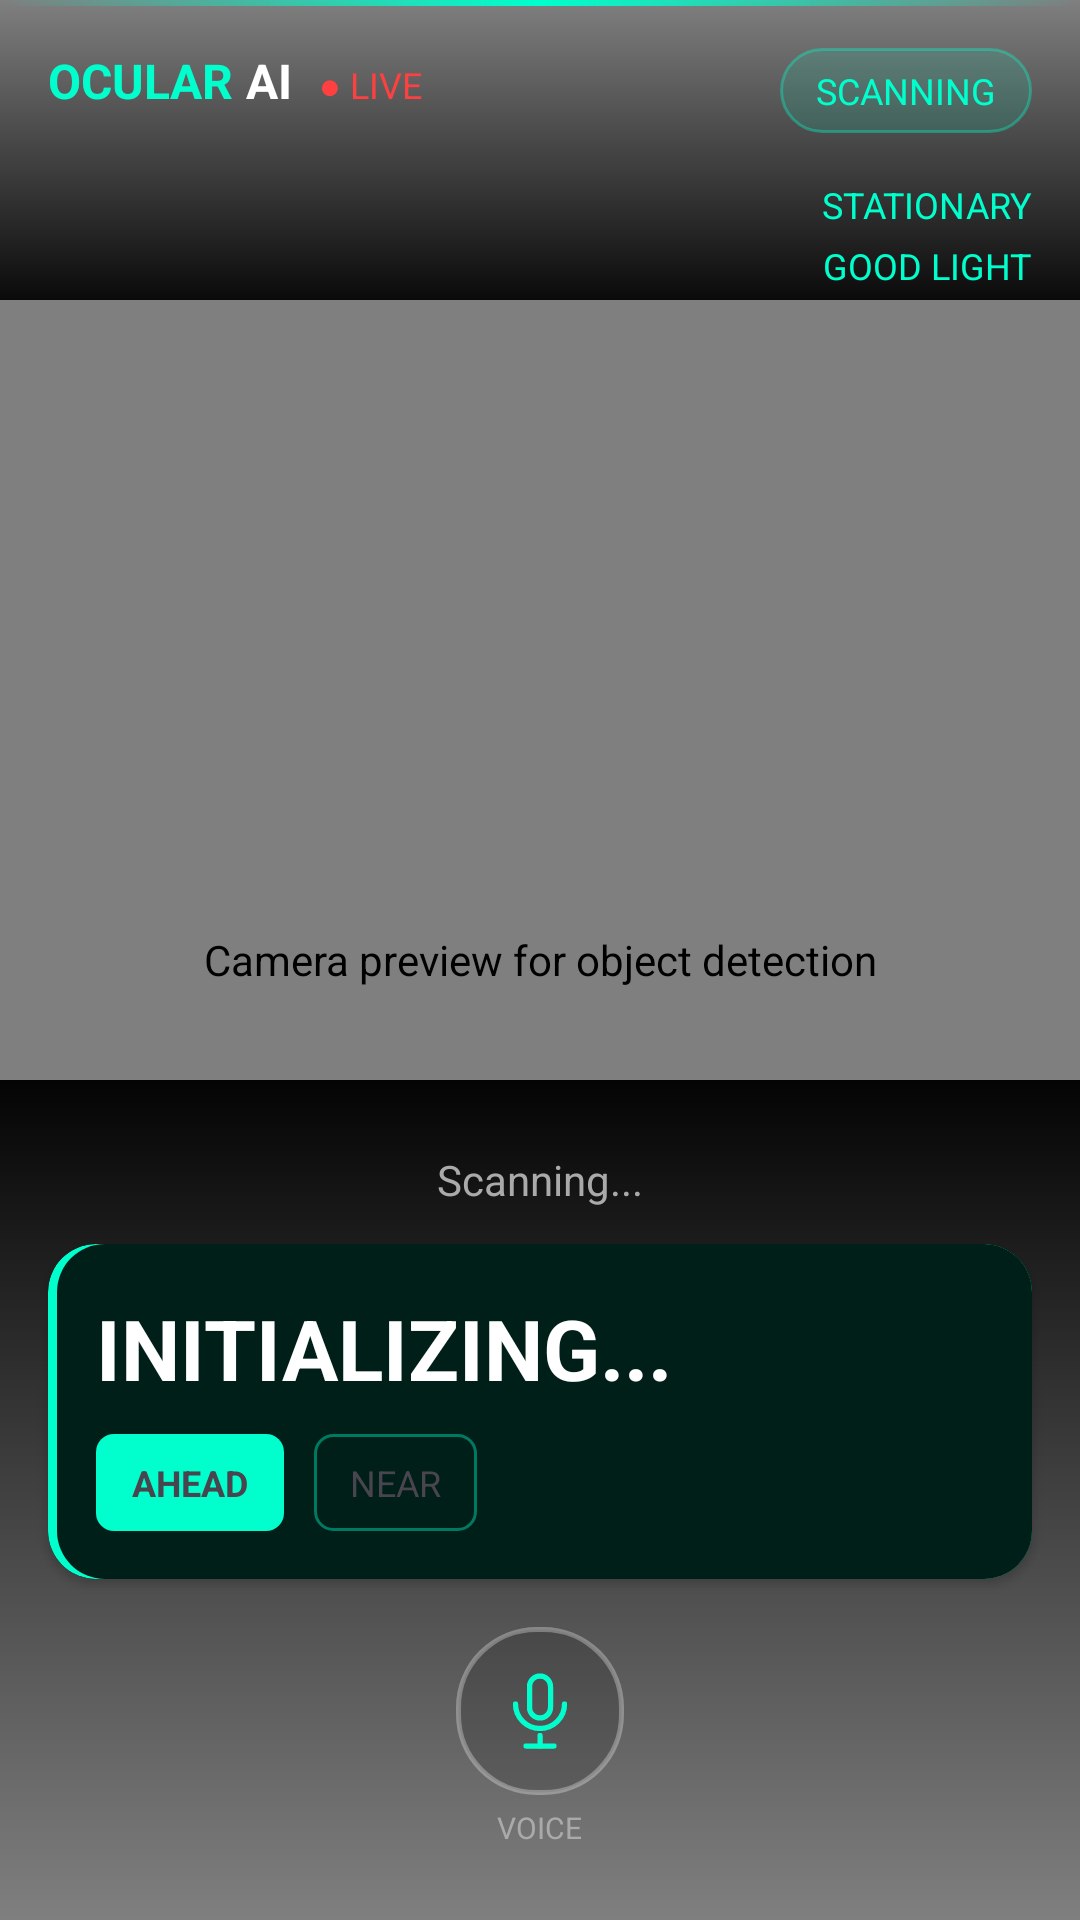

Point at icon controls on the screen. Image size 1080×1920, points as (x=x, y=y).
mic: (x=540, y=1711)
